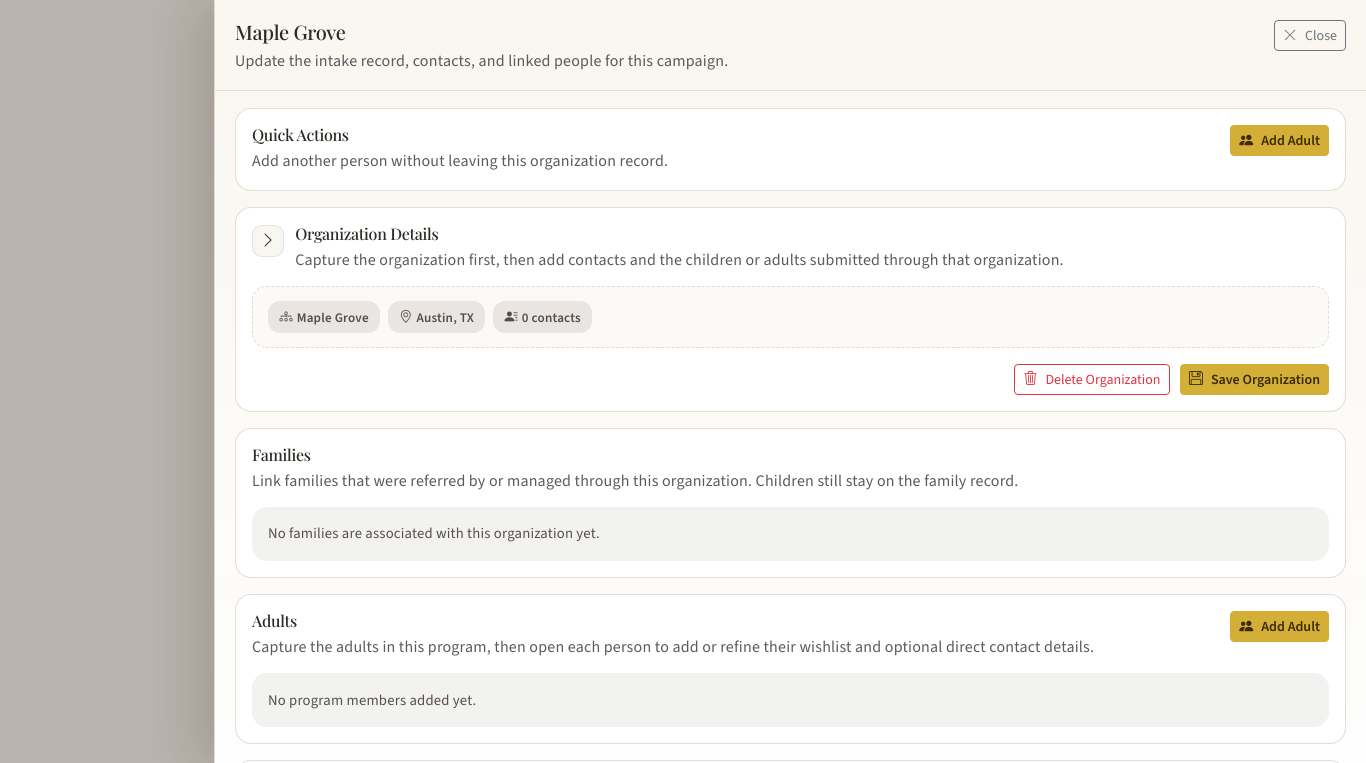
it: CampaignPeopleGroupDrawer › does not search just by opening an existing organization record with an address
Step 1. Click the button named "Expand group details" → (268, 241), box top-left (252, 225), bottom-right (284, 257)
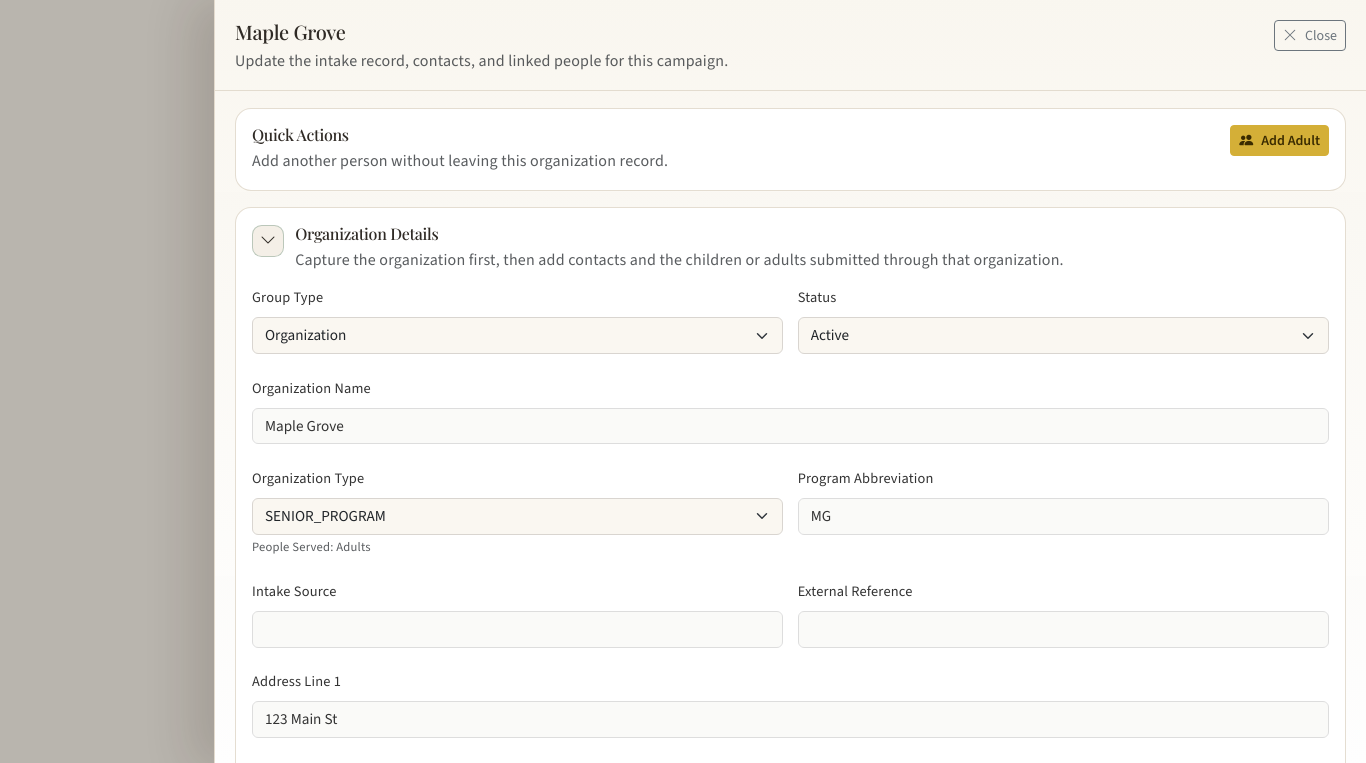
expect the field showing "123 Main St" is shown: met, box top-left (252, 701), bottom-right (1329, 738)
